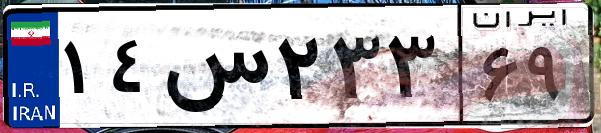1: (57, 26, 110, 100)
2: (270, 28, 330, 110)
3: (385, 28, 445, 110), (330, 28, 385, 110)
4: (110, 28, 158, 98)
6: (475, 38, 525, 113)
9: (525, 38, 570, 115)
س: (158, 20, 270, 120)
